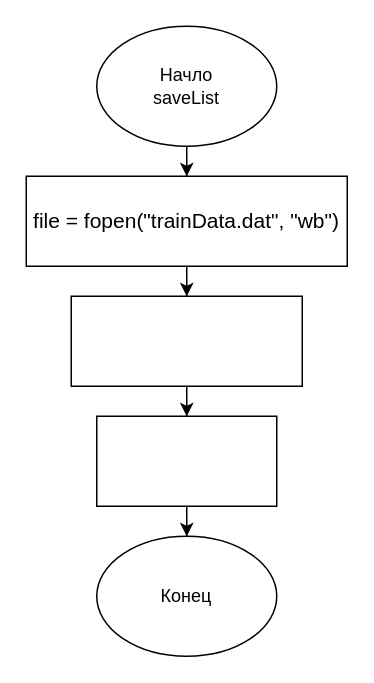
The diagram is 374 pixels wide and 683 high, and some of its shapes have lost their labels. Each missing label, with the centre of its shape:
"fclose(file)" belongs at (x=186, y=460).
"saveTrain(trainList, file)" belongs at (x=186, y=340).
